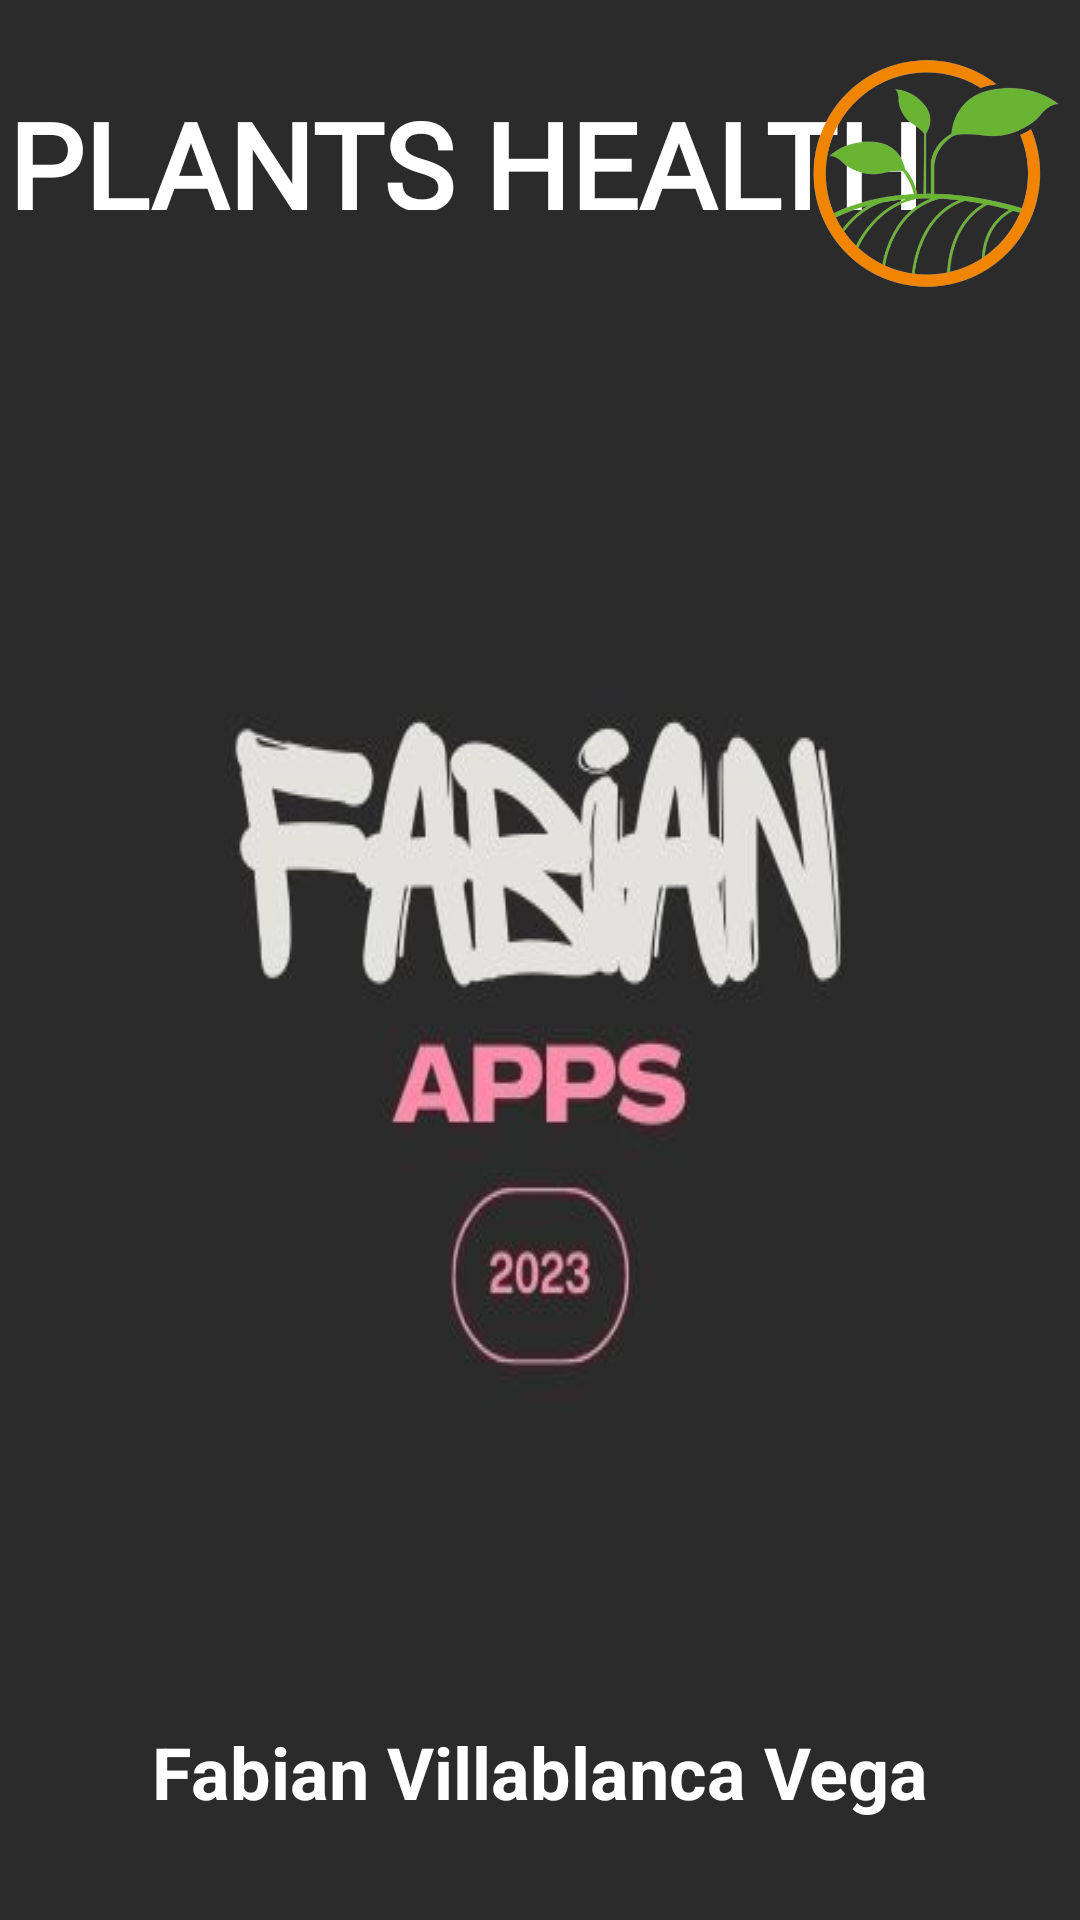

Point at icon controls on the screen. Image size 1080 x 1920, points as [x,y].
plantita: [925,173]
